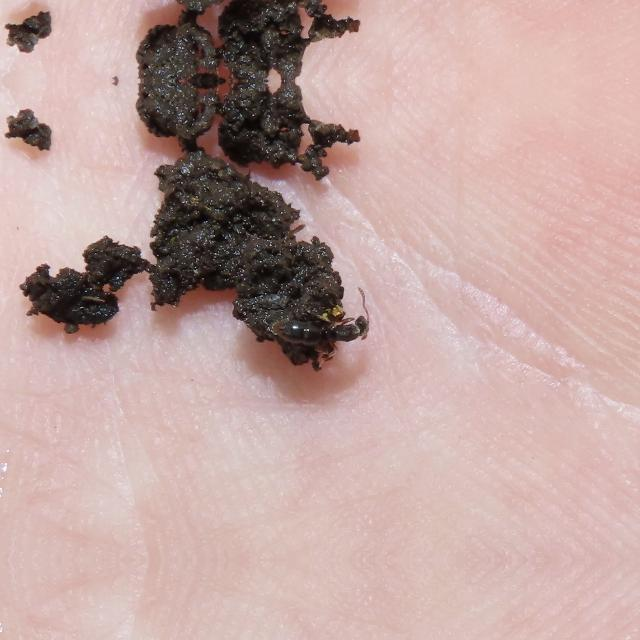Ponera: (266, 287, 378, 358)
